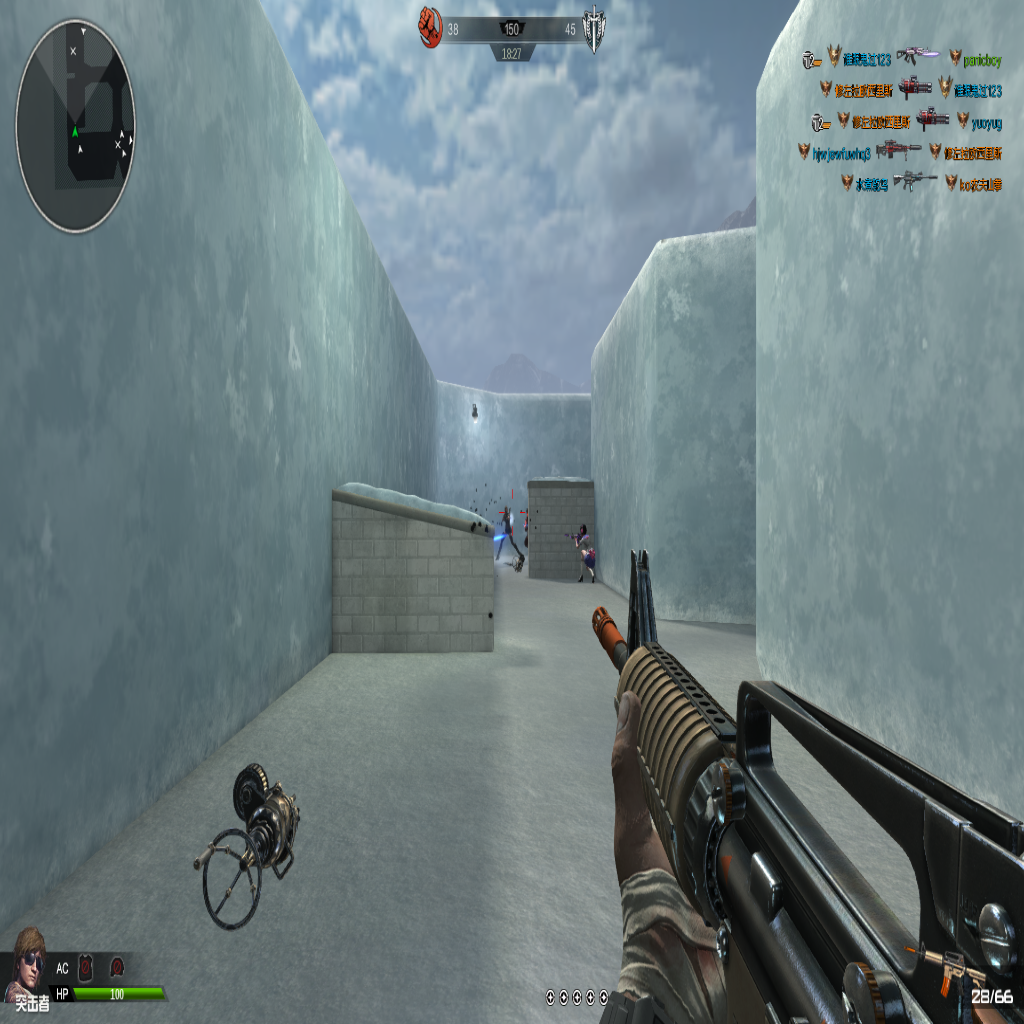ct: (496, 504, 522, 561)
tt: (565, 523, 595, 580)
